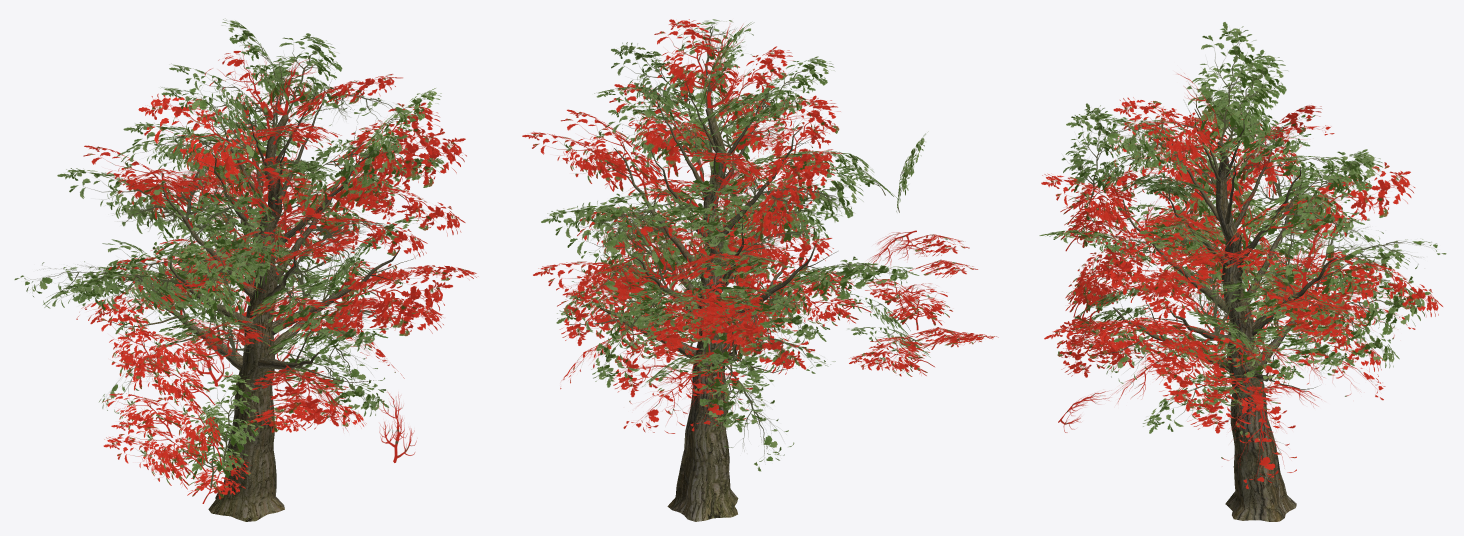
File: poinciana_b.glb
The picture shows the model from 3 angles, left to right: view 1: azimuth 30°, elevation 25°; view 2: azimuth 150°, elevation 25°; view 3: azimuth 270°, elevation 25°; orthographic projection. The views are drawn at different scales.
Visible parts, largest first — view 1: leafplanes_2_196_33_w; view 2: leafplanes_2_196_33_w; view 3: leafplanes_2_196_33_w.
Boxes of the visible parts, bbox=[...] form: leafplanes_2_196_33_w: bbox=[14, 18, 478, 521]; leafplanes_2_196_33_w: bbox=[522, 19, 998, 521]; leafplanes_2_196_33_w: bbox=[1039, 22, 1446, 521].
Size of the model in its own units: 6.92 by 8 by 6.36.
Materials: 3 (3 with a texture image).
